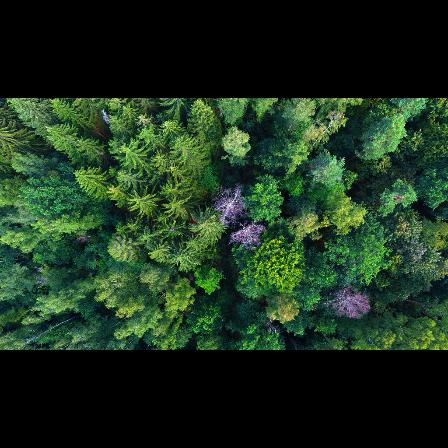Dead: (323, 287, 373, 322), (228, 223, 269, 253), (215, 185, 248, 222)
